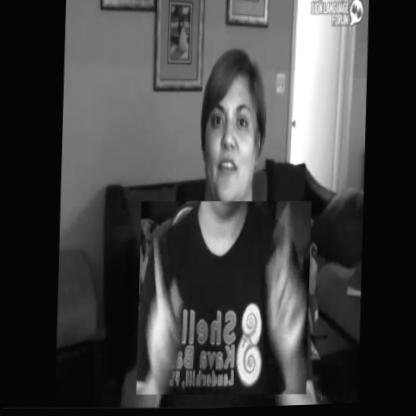NiceToMeetYou: (135, 197, 312, 402)
